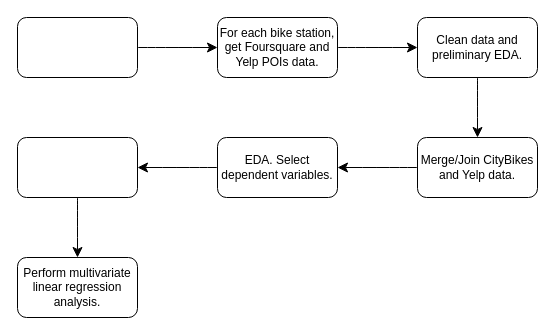
Some shapes in this 555 by 335 pixel diagram are drawn without their labels. Each missing label, with the centre of its shape:
Backup to SQLite database.: [77,167]
Choose city. Get CityBikes bike stations data.: [77,47]
